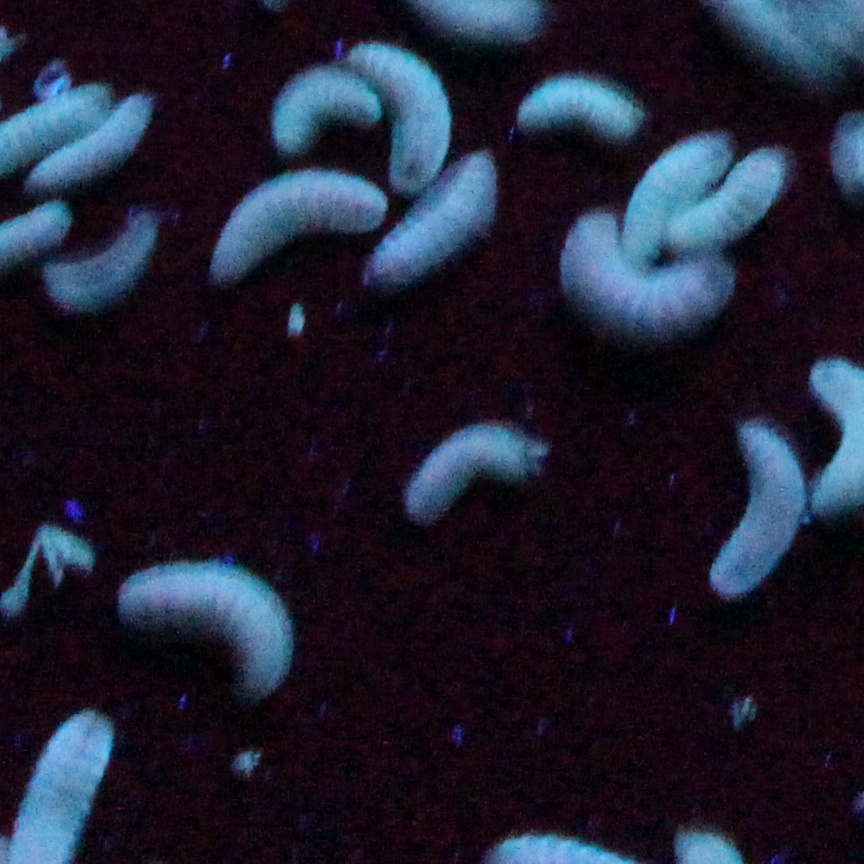larve: (556, 207, 738, 343), (119, 559, 300, 695), (700, 422, 806, 593), (213, 174, 386, 276), (373, 153, 502, 278), (623, 132, 736, 262), (350, 39, 444, 193), (402, 428, 544, 522), (667, 147, 790, 247), (29, 91, 156, 187), (46, 214, 161, 309), (515, 70, 646, 147), (277, 70, 379, 151)
